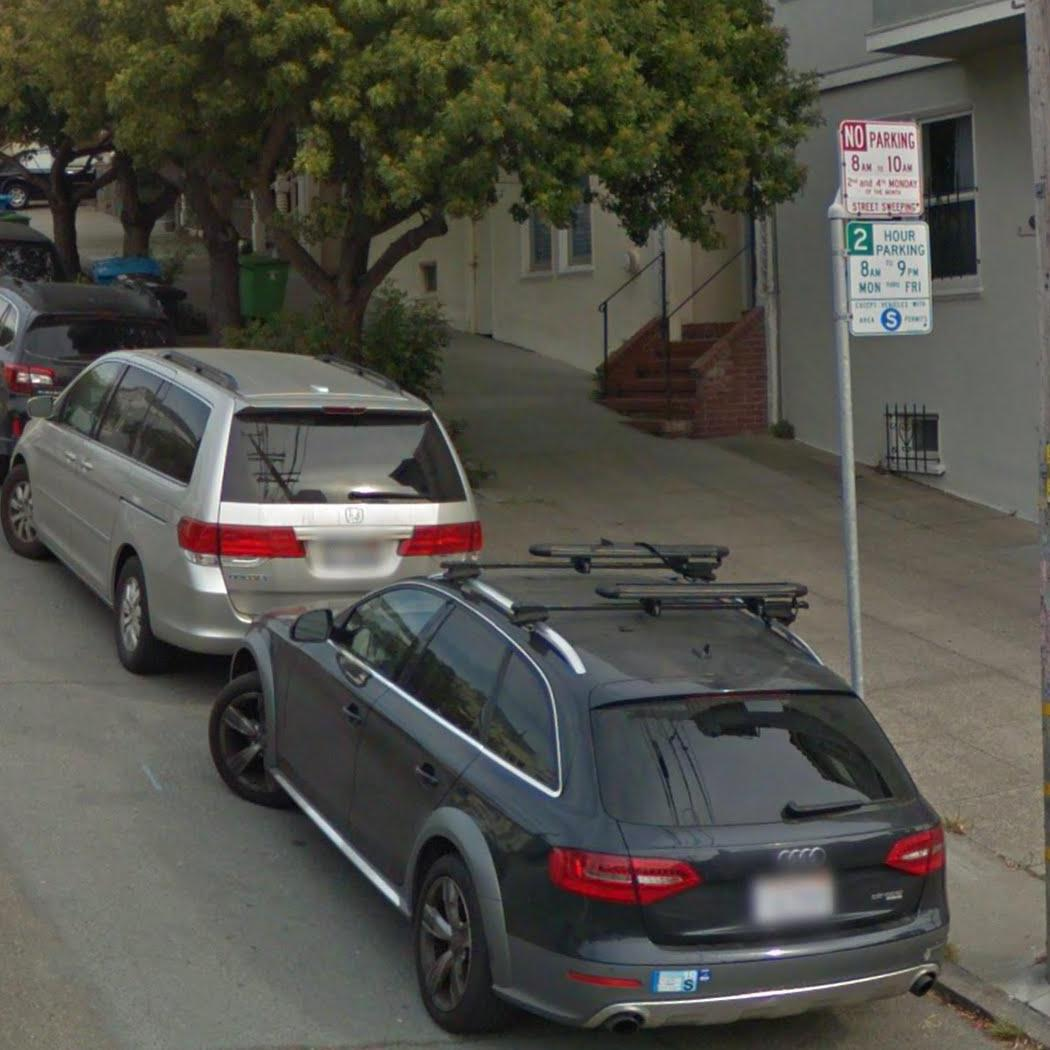2 Hour Parking: (838, 209, 941, 342)
No Parking: (832, 114, 929, 222)
